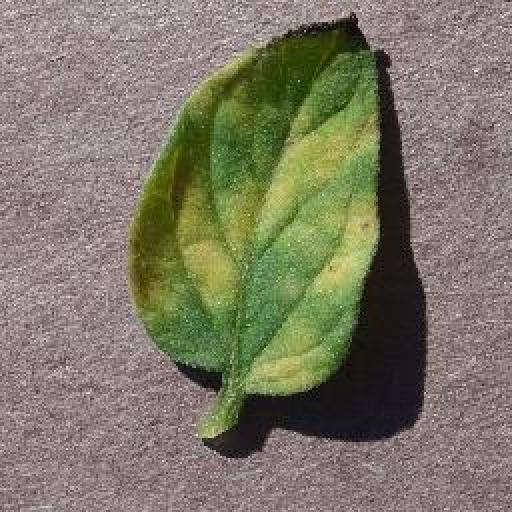Leaf Mold: (127, 15, 383, 396)
